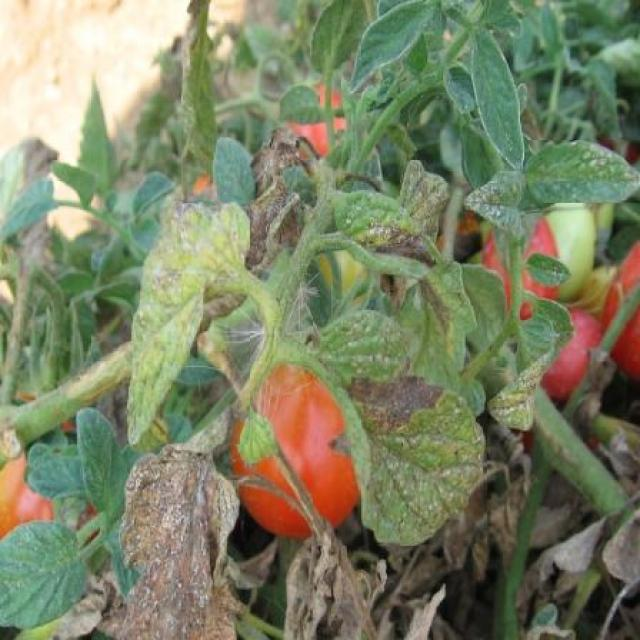Spider Mites: (313, 306, 487, 546), (127, 202, 250, 445), (529, 140, 640, 203)
